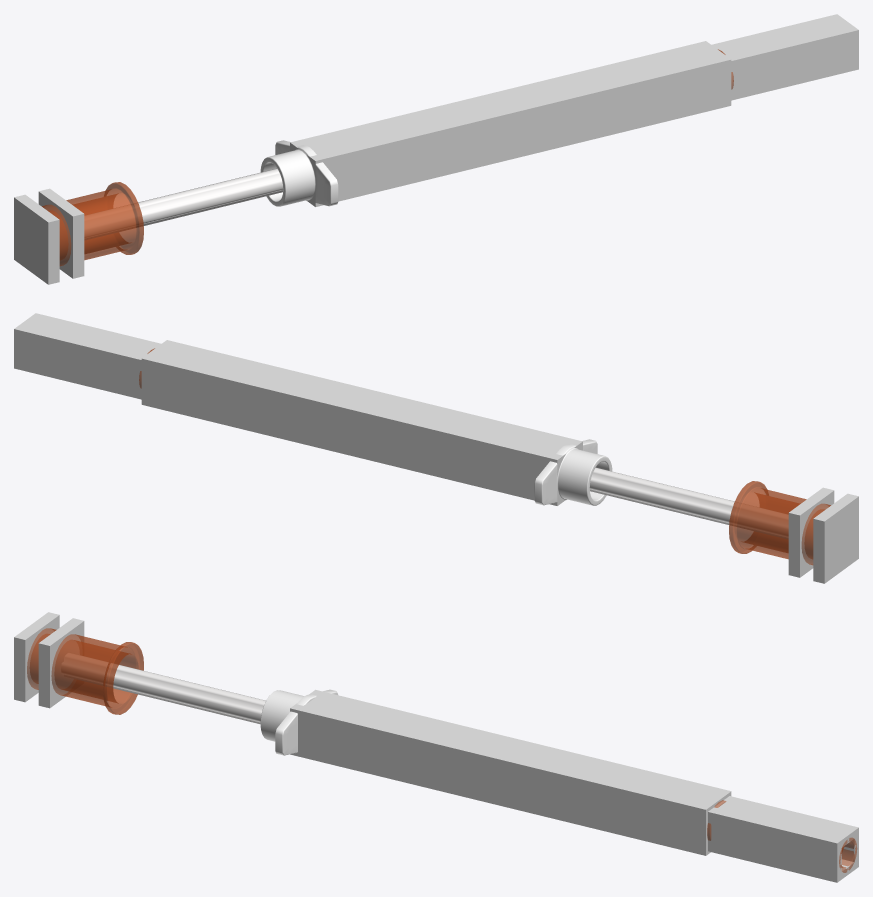
The model's file is Syringe_100ui.fbx.
3 views of the same model, one above another, from view 1: azimuth 30°, elevation 25°; view 2: azimuth 150°, elevation 25°; view 3: azimuth 330°, elevation 25° (orthographic).
Parts seen in each view (by area): view 1: C_Syringe_100ui_cylinder.004, C_Syringe_100ui_needle_cap.004, Syringe_100un_piston, Syringe_100un_cap_B, C_Syringe_100ui_piston.005, Syringe_100un_cylinder, C_Syringe_100ui_piston.004; view 2: C_Syringe_100ui_cylinder.004, C_Syringe_100ui_needle_cap.004, Syringe_100un_piston, Syringe_100un_cap_B, C_Syringe_100ui_piston.005, Syringe_100un_cylinder, C_Syringe_100ui_piston.004; view 3: C_Syringe_100ui_cylinder.004, C_Syringe_100ui_needle_cap.004, Syringe_100un_cap_B, Syringe_100un_piston, C_Syringe_100ui_piston.004, C_Syringe_100ui_piston.005, Syringe_100un_cylinder, Syringe_100un_cap_T.
Part boxes in pixels (x1,y1,x2,y2): C_Syringe_100ui_cylinder.004: (290, 41, 731, 206); C_Syringe_100ui_needle_cap.004: (711, 14, 858, 100); Syringe_100un_piston: (84, 168, 283, 239); Syringe_100un_cap_B: (42, 182, 143, 266); C_Syringe_100ui_piston.005: (14, 194, 59, 284); Syringe_100un_cylinder: (260, 140, 338, 206); C_Syringe_100ui_piston.004: (38, 188, 84, 278); C_Syringe_100ui_cylinder.004: (141, 340, 582, 505); C_Syringe_100ui_needle_cap.004: (14, 313, 161, 399); Syringe_100un_piston: (589, 467, 788, 538); Syringe_100un_cap_B: (729, 481, 830, 565); C_Syringe_100ui_piston.005: (813, 493, 858, 583); Syringe_100un_cylinder: (534, 439, 612, 505); C_Syringe_100ui_piston.004: (788, 487, 834, 577); C_Syringe_100ui_cylinder.004: (290, 689, 731, 855); C_Syringe_100ui_needle_cap.004: (708, 796, 858, 882); Syringe_100un_cap_B: (27, 628, 143, 714); Syringe_100un_piston: (61, 653, 265, 724); C_Syringe_100ui_piston.004: (38, 618, 84, 708); C_Syringe_100ui_piston.005: (14, 612, 59, 702); Syringe_100un_cylinder: (260, 689, 337, 755); Syringe_100un_cap_T: (707, 800, 857, 872).
Size of the model in its own units: 164 by 12.89 by 19.39.
